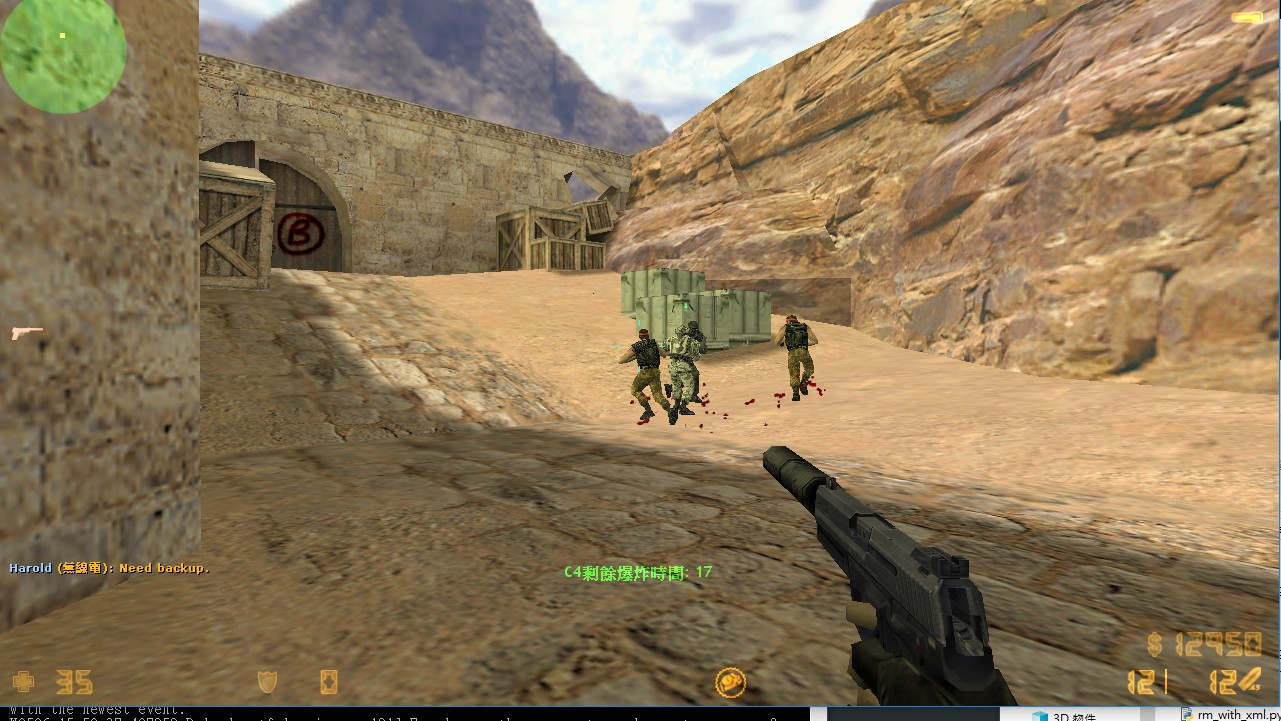person: (623, 324, 669, 422), (777, 309, 815, 400), (670, 315, 700, 405)
